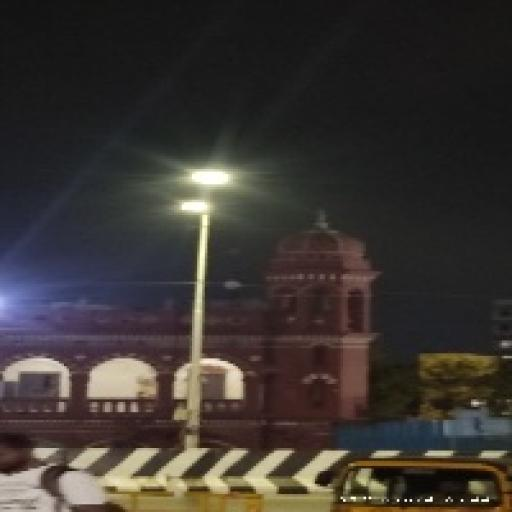Working: (184, 161, 236, 191), (170, 195, 222, 224)
